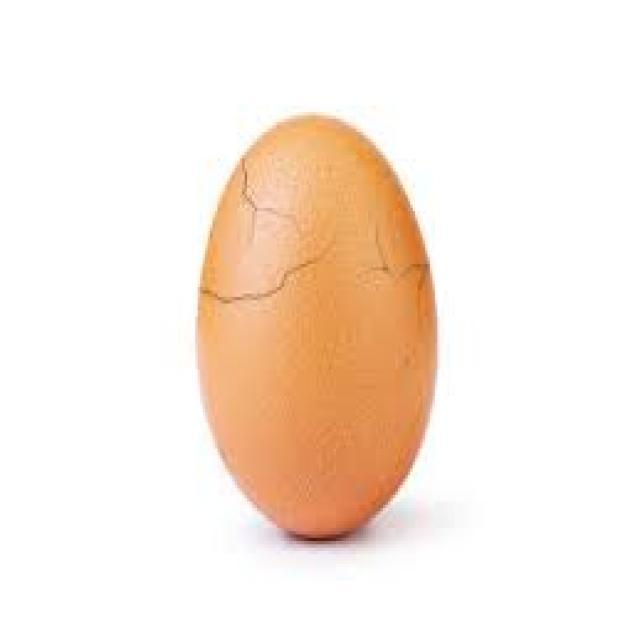biodegradable: (192, 106, 450, 549)
